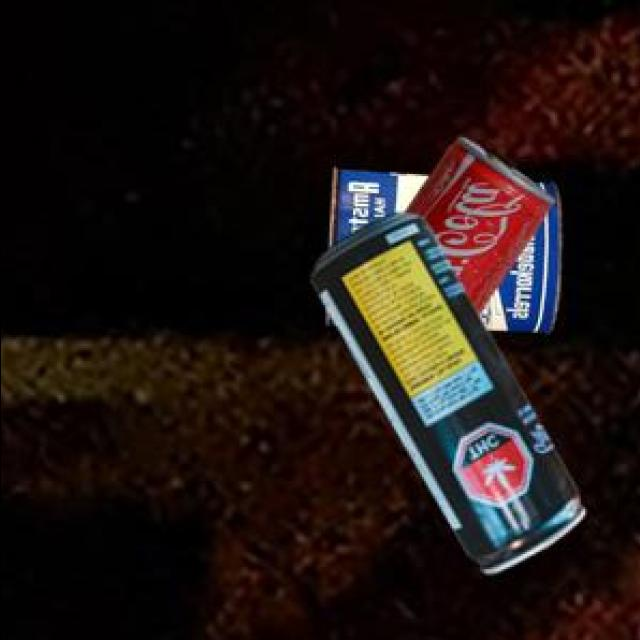logam: (308, 212, 581, 570), (325, 164, 557, 330), (401, 134, 551, 310)
